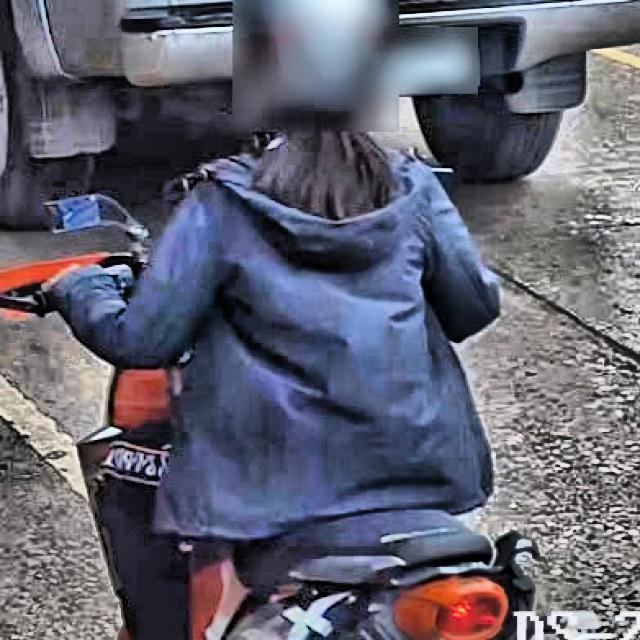motorcycle: (6, 193, 640, 640)
